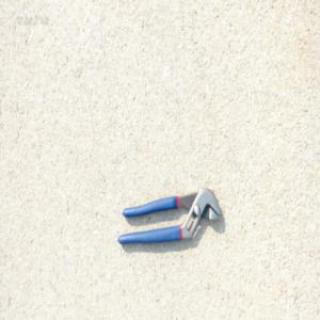Pliertrack_idkeyframe: (116, 183, 224, 243)
